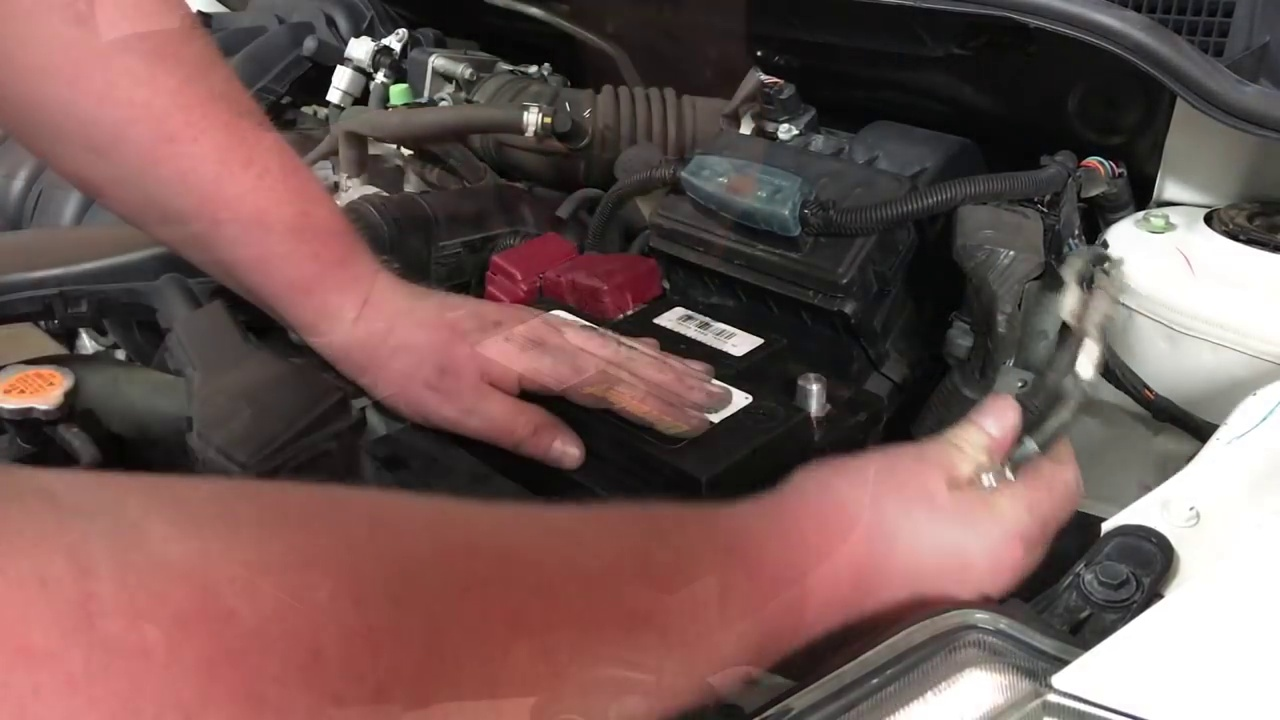battery: (477, 265, 874, 474)
neg_disconnected: (775, 358, 848, 433)
pos_connected: (488, 229, 675, 325)
pos_touched: (467, 238, 664, 394)
